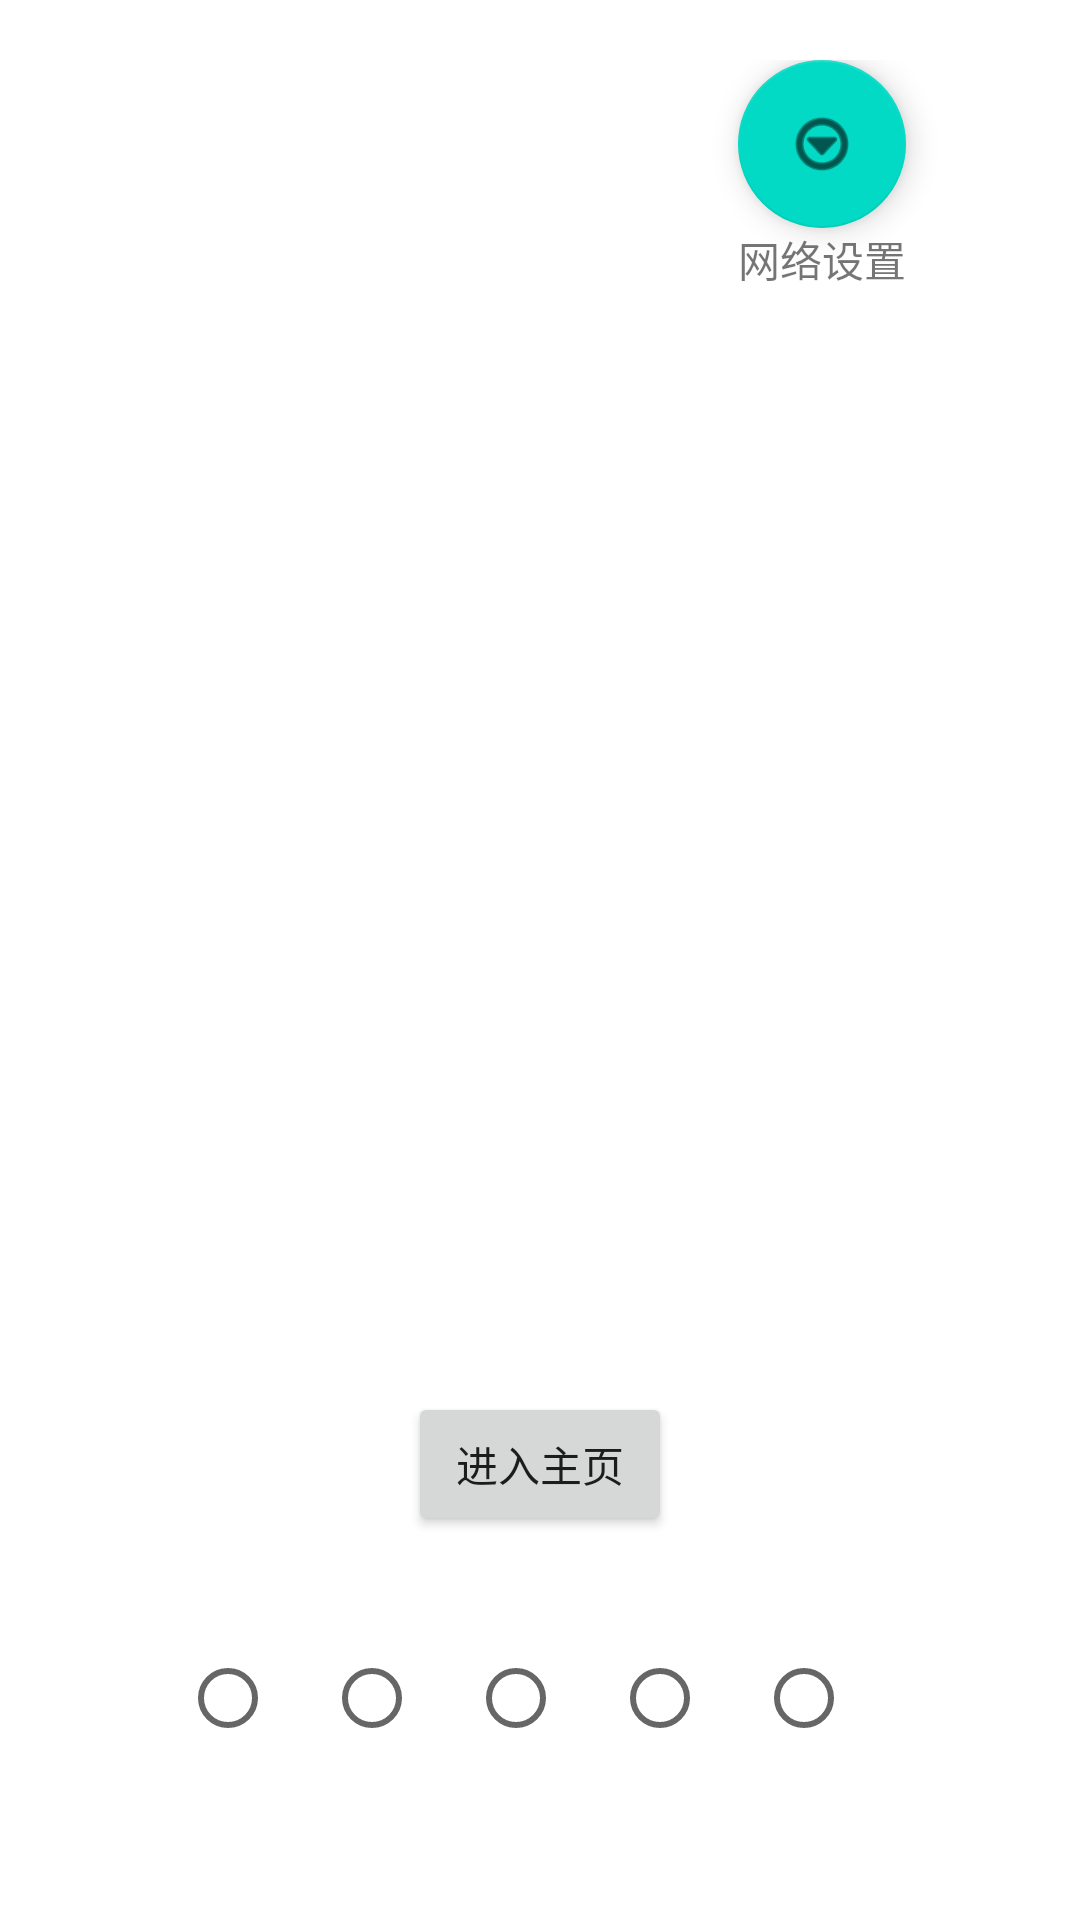

Named icons in this screenshot (1080*1920) and their bounding boxes, detection(x1, y1, x2, y2):
more: detection(738, 60, 906, 228)
